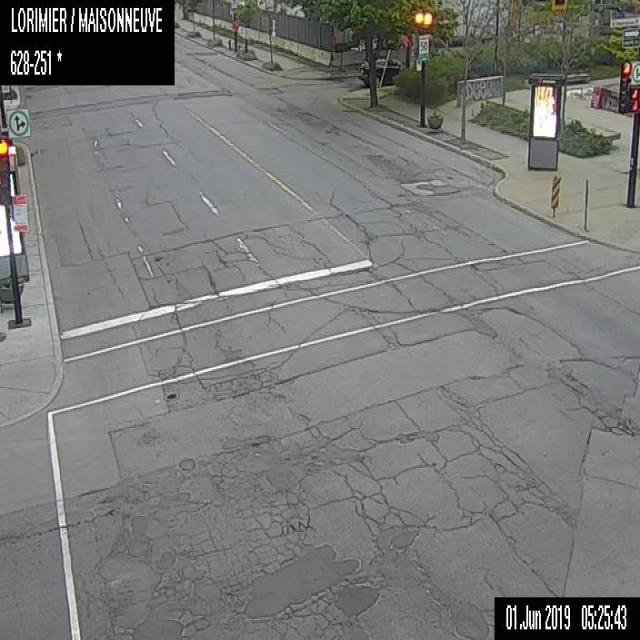vehicle: (356, 54, 403, 86)
